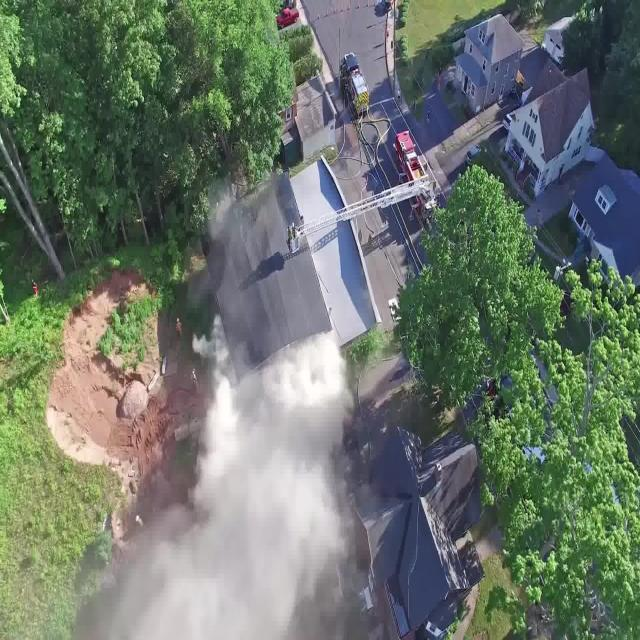Smoke: (63, 172, 345, 635)
